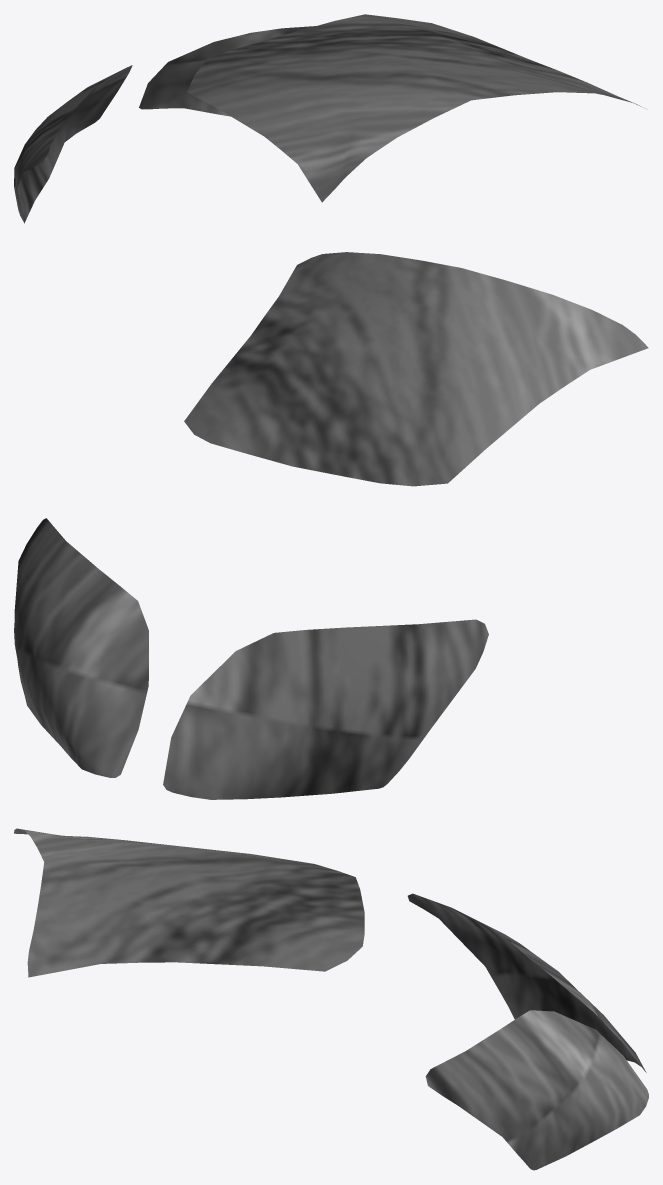
File: bike3.obj
3 views of the same model, one above another, from view 1: azimuth 30°, elevation 25°; view 2: azimuth 150°, elevation 25°; view 3: azimuth 270°, elevation 25° (orthographic). The views are drawn at different scales.
Bounding box in the file's own units: 488 × 289 × 679.
1 material, 1 textured.
